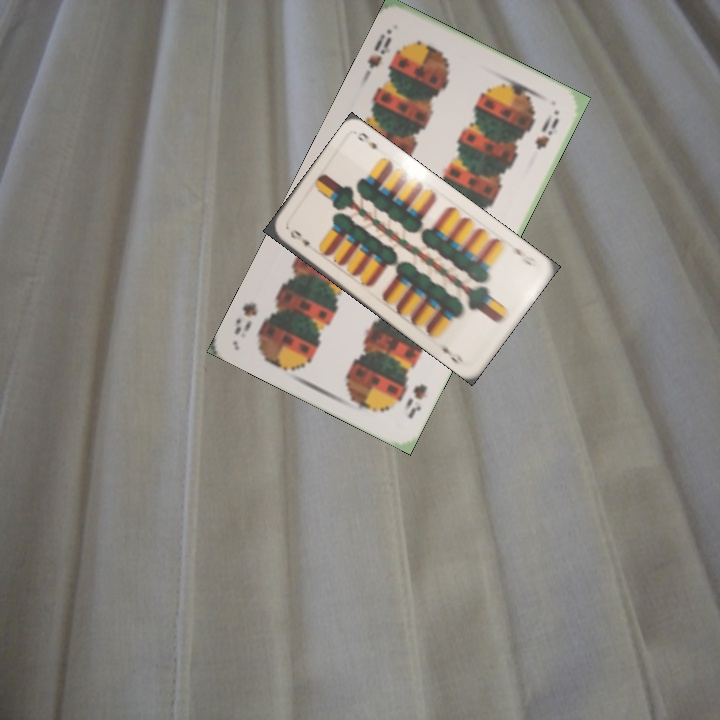E9: (507, 240, 539, 269), (286, 225, 313, 249)
S8: (363, 32, 395, 71), (400, 380, 430, 421)
